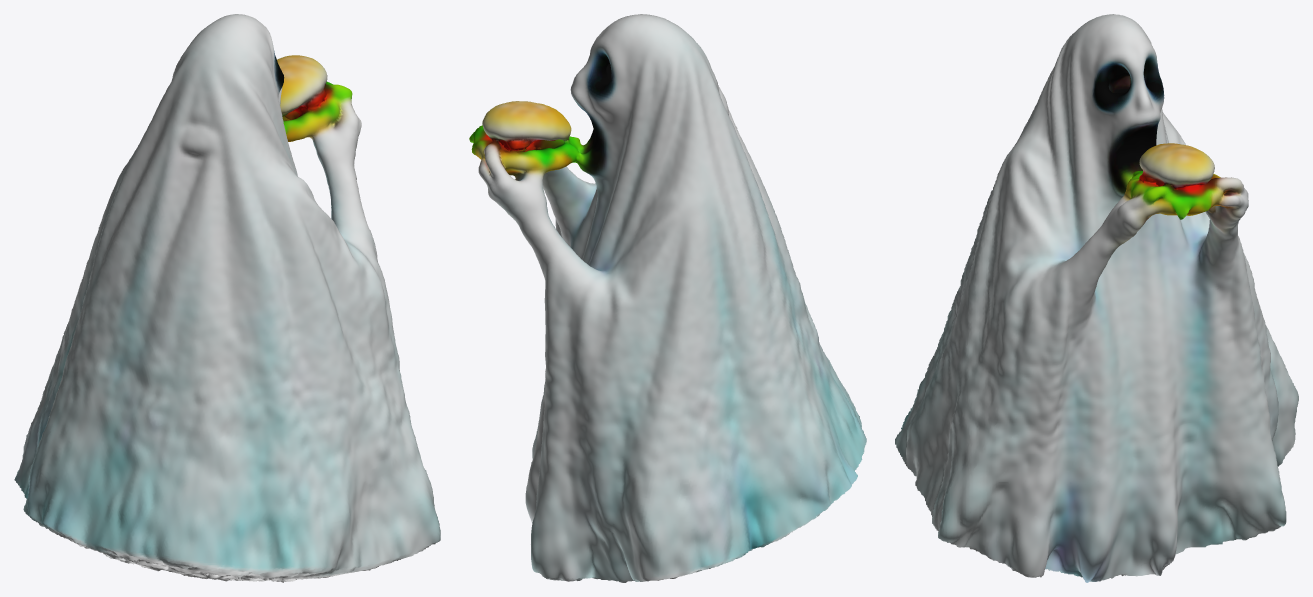
Rendered from 44934035_sept18_hero19_113a_DSLR_photo_of_a_ghost_eating_a_hamburger_1step.glb.
3 views of the same model, side by side, from view 1: azimuth 30°, elevation 25°; view 2: azimuth 150°, elevation 25°; view 3: azimuth 270°, elevation 25° (orthographic). The views are drawn at different scales.
Visible parts, largest first — view 1: world; view 2: world; view 3: world.
Boxes of the visible parts, left/top/right/bottom form: world: left=14, top=14, right=440, bottom=582; world: left=469, top=14, right=866, bottom=582; world: left=895, top=14, right=1298, bottom=582.
Bounding box in the file's own units: 5.04 × 7.55 × 5.29.
